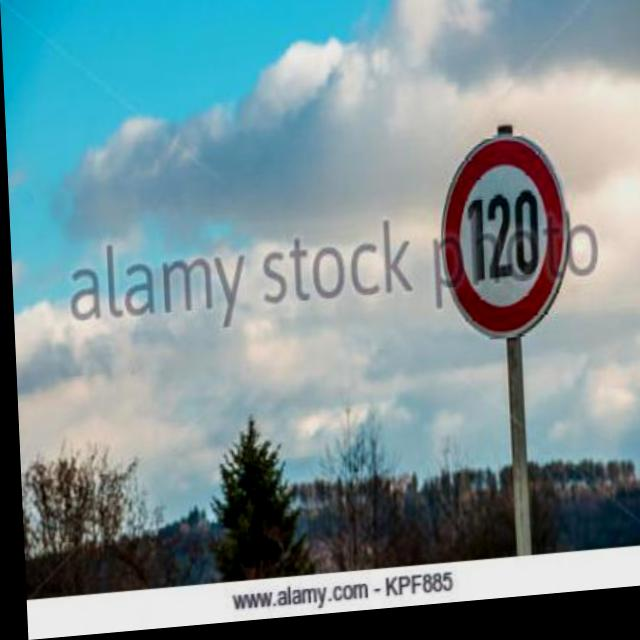limit120: (433, 125, 582, 358)
